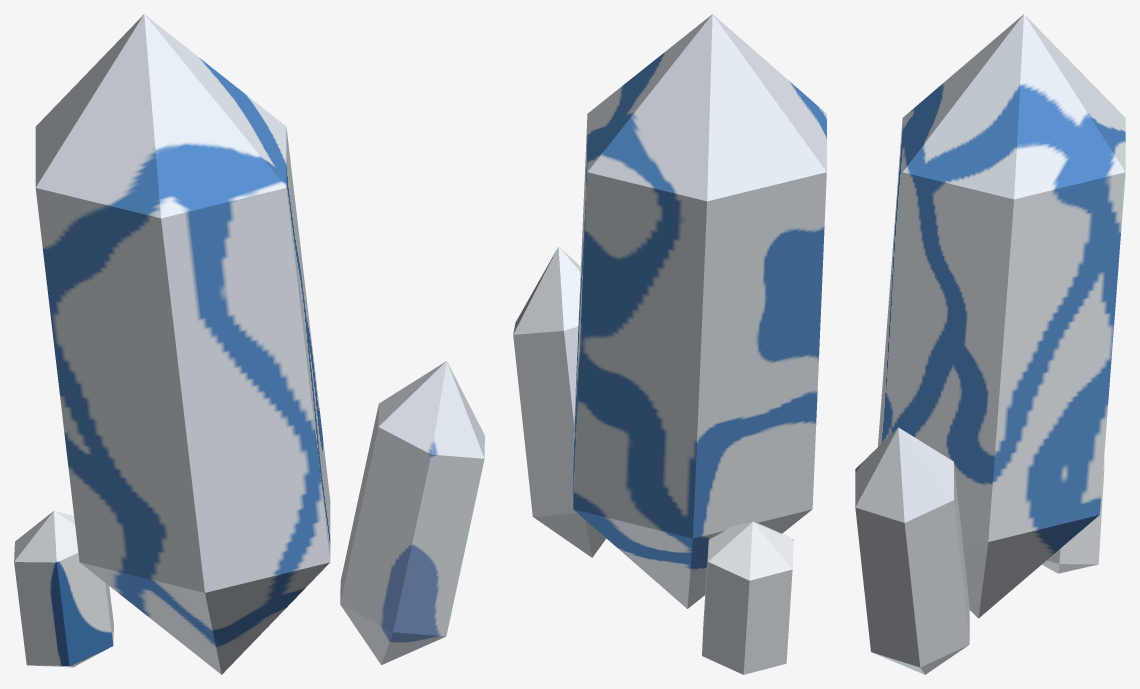
Rendered from crystalline_item_flat.glb.
The picture shows the model from 3 angles, left to right: view 1: azimuth 30°, elevation 25°; view 2: azimuth 150°, elevation 25°; view 3: azimuth 270°, elevation 25°; orthographic projection. The views are drawn at different scales.
Parts seen in each view (by area): view 1: CrystalMain, CrystalSmall, CrystalTiny; view 2: CrystalMain, CrystalSmall, CrystalTiny; view 3: CrystalMain, CrystalSmall, CrystalTiny.
Boxes of the visible parts, x1,y1,x2,y2 form: CrystalMain: (35, 14, 330, 674); CrystalSmall: (340, 361, 484, 664); CrystalTiny: (14, 511, 113, 667); CrystalMain: (573, 14, 826, 608); CrystalSmall: (513, 246, 606, 557); CrystalTiny: (702, 521, 793, 674); CrystalMain: (878, 14, 1125, 618); CrystalSmall: (855, 427, 969, 674); CrystalTiny: (1042, 458, 1104, 573).
Size of the model in its own units: 0.1495 by 0.2413 by 0.1015.
3 materials, 3 textured.
